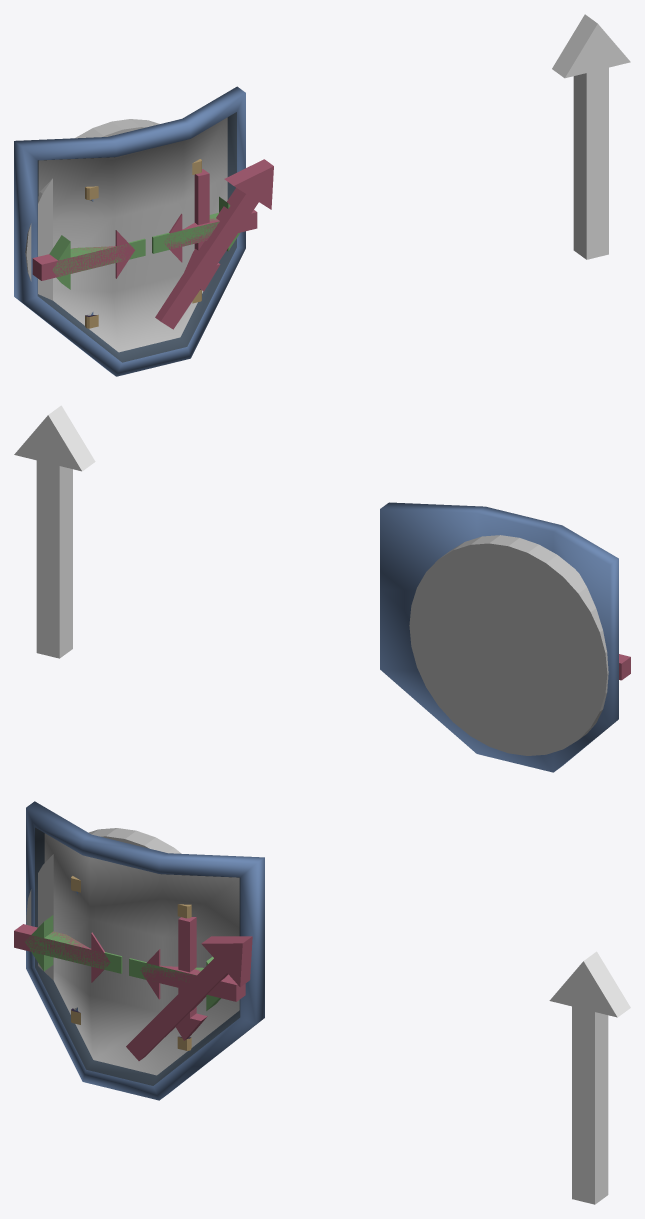
The model's file is pong-bonus.glb.
3 renders of one model, top to bottom at view 1: azimuth 30°, elevation 25°; view 2: azimuth 150°, elevation 25°; view 3: azimuth 330°, elevation 25°, orthographic. The views are drawn at different scales.
Parts seen in each view (by area): view 1: Shield, Arrow, acceleration, Shrink, Grow, Slow; view 2: acceleration, Shield, Arrow; view 3: Shield, Arrow, acceleration, Shrink, Grow, Slow.
Boxes of the visible parts, x1=… form: Shield: x1=14, y1=86, x2=245, y2=376; Arrow: x1=552, y1=14, x2=630, y2=259; acceleration: x1=25, y1=119, x2=273, y2=329; Shrink: x1=32, y1=210, x2=257, y2=280; Grow: x1=49, y1=196, x2=239, y2=289; Slow: x1=85, y1=159, x2=220, y2=328; acceleration: x1=409, y1=535, x2=608, y2=755; Shield: x1=380, y1=502, x2=618, y2=772; Arrow: x1=14, y1=405, x2=95, y2=658; Shield: x1=26, y1=801, x2=264, y2=1100; Arrow: x1=549, y1=951, x2=630, y2=1204; acceleration: x1=26, y1=828, x2=252, y2=1060; Shrink: x1=14, y1=924, x2=245, y2=1001; Grow: x1=25, y1=915, x2=220, y2=1010; Slow: x1=71, y1=876, x2=207, y2=1050.
Bounding box in the file's own units: 5.3 × 2 × 0.4628.
1 material, 1 textured.
